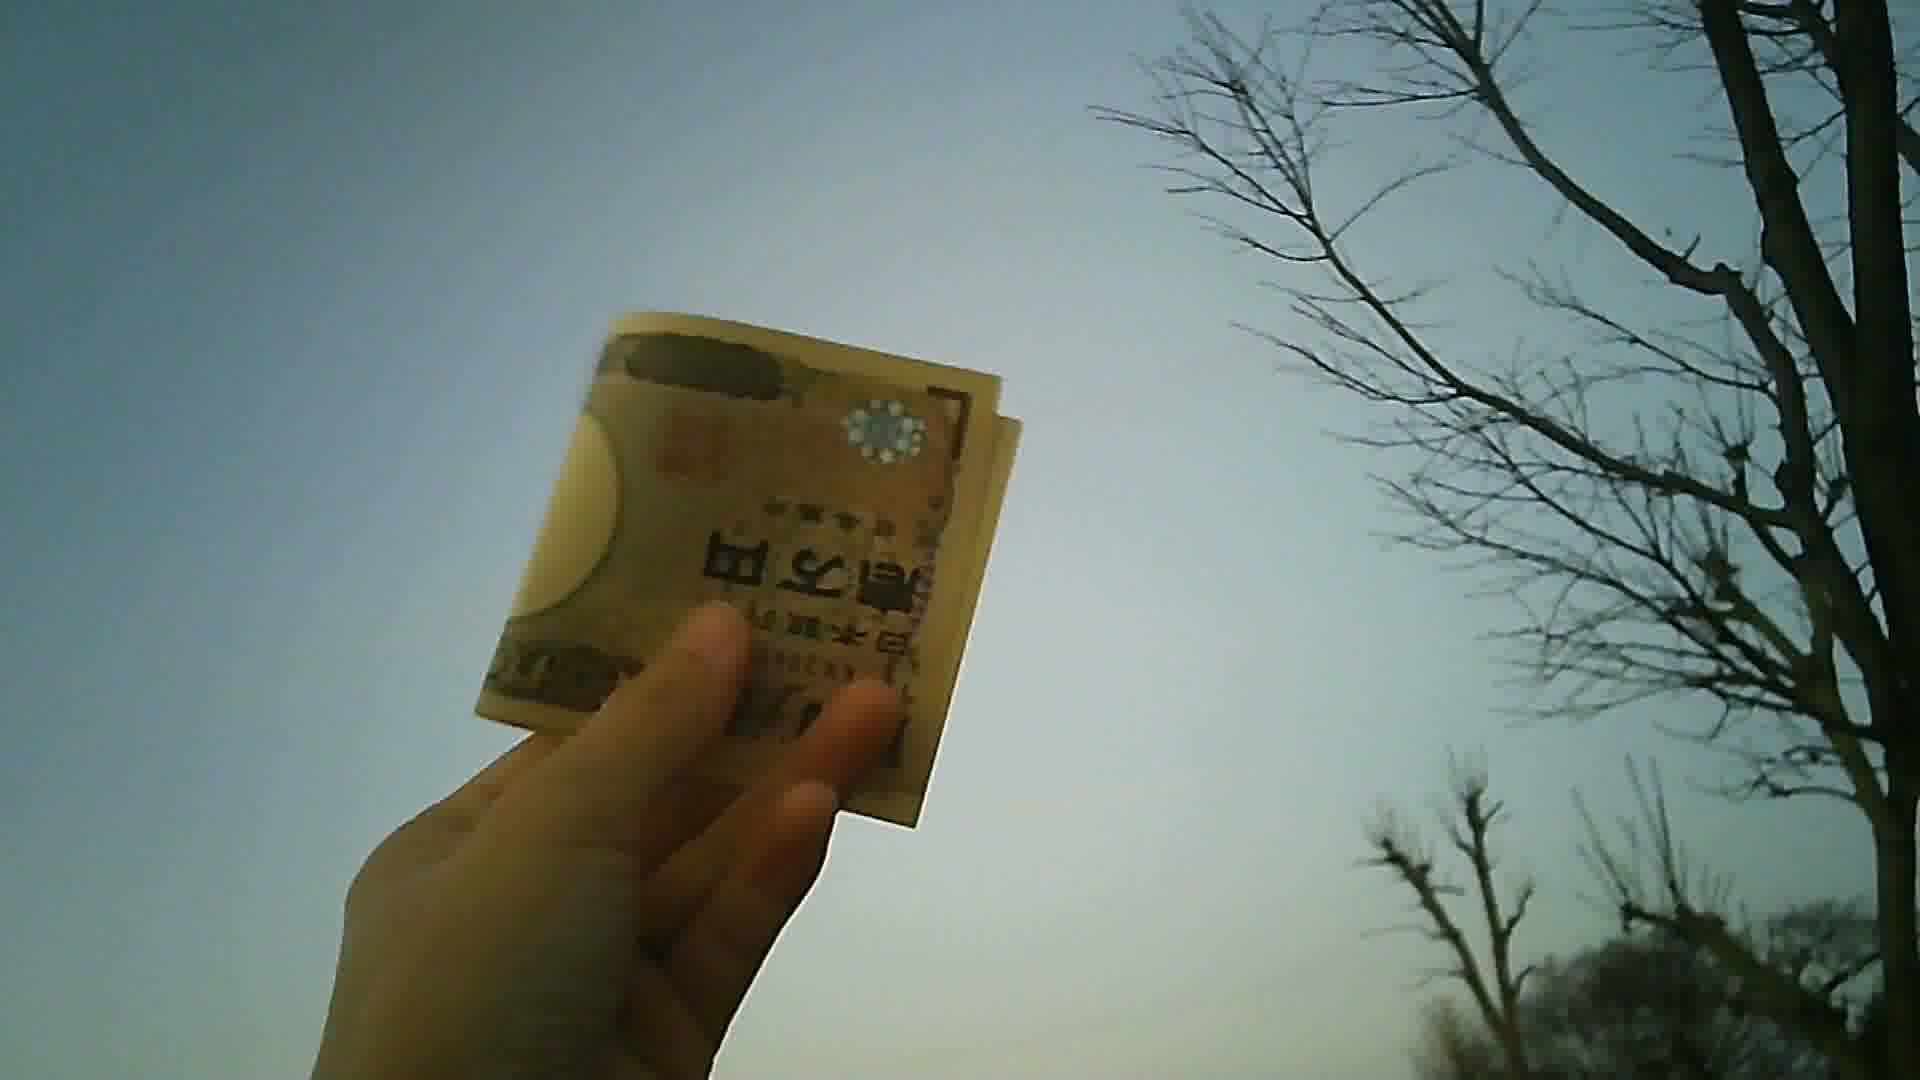10,000 Yen: (495, 266, 1044, 858)
